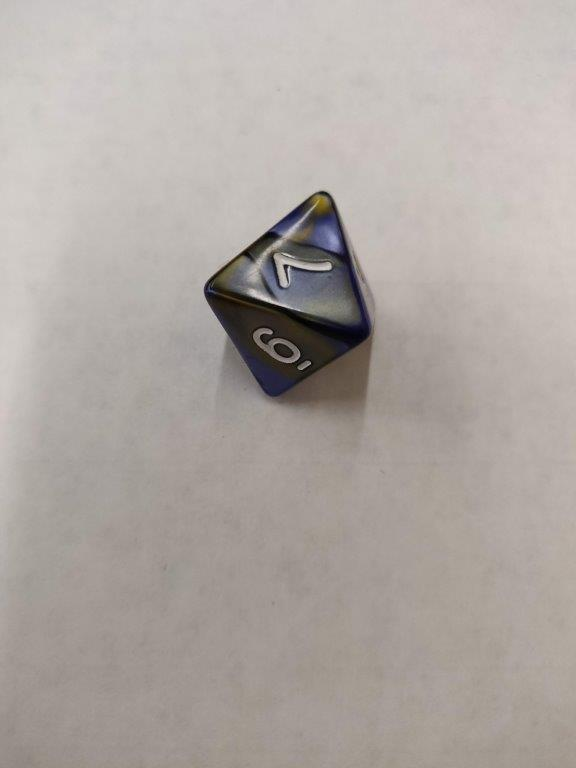d8-7: (204, 189, 374, 402)
